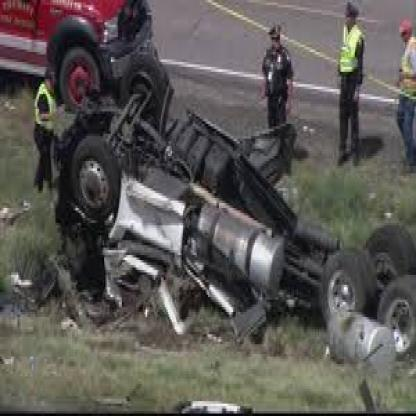accident: (29, 1, 416, 382)
